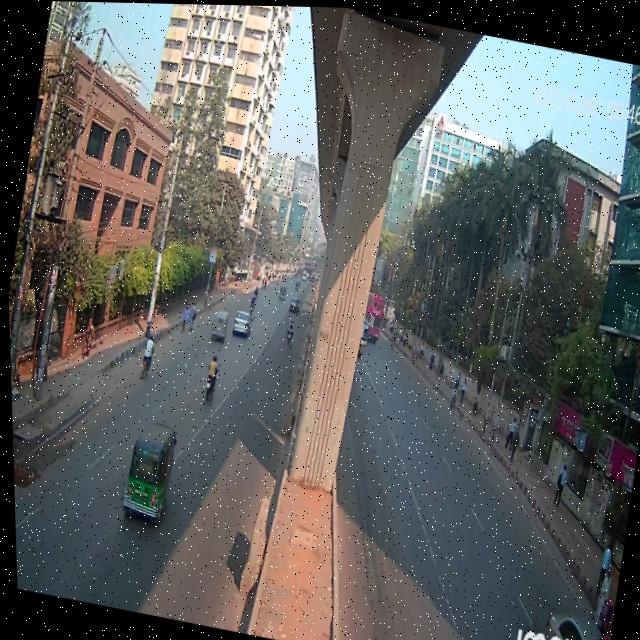cng: (108, 405, 180, 525), (207, 304, 230, 348), (275, 281, 288, 305)
